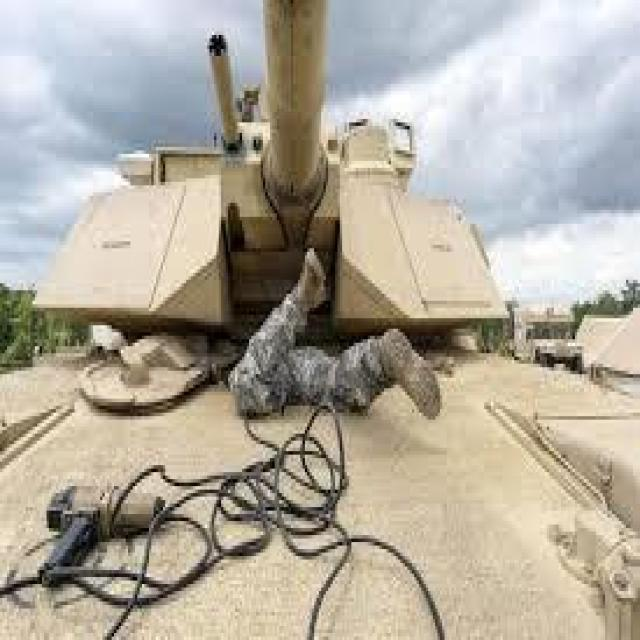Tanks: (24, 77, 636, 629)
